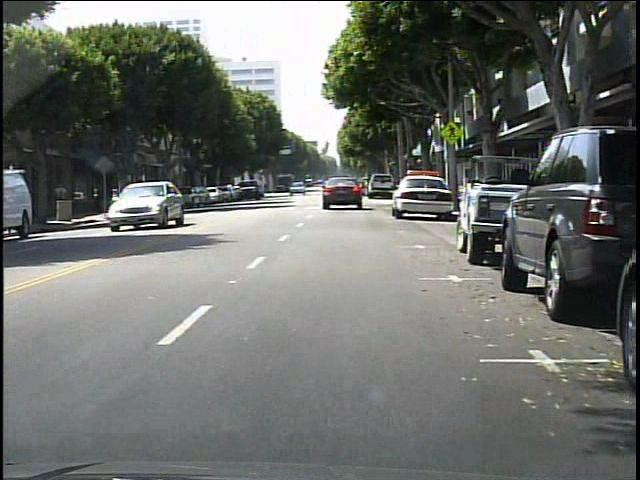person: (53, 179, 72, 221)
